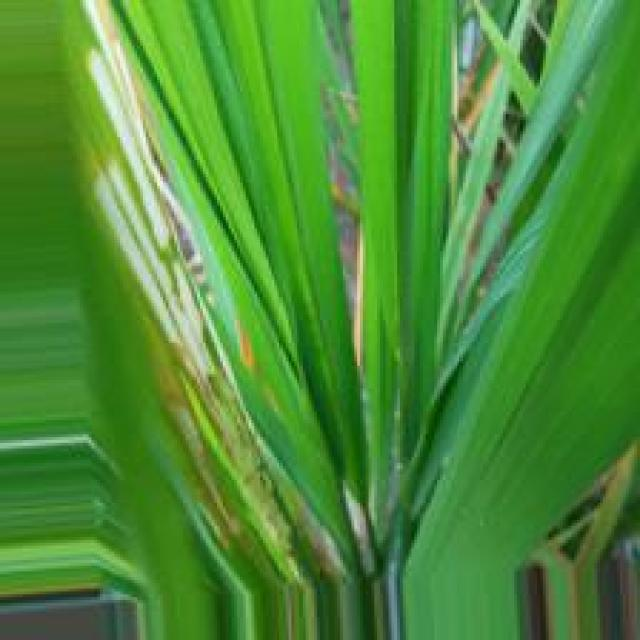Rice_Hispa: (71, 2, 348, 595)
